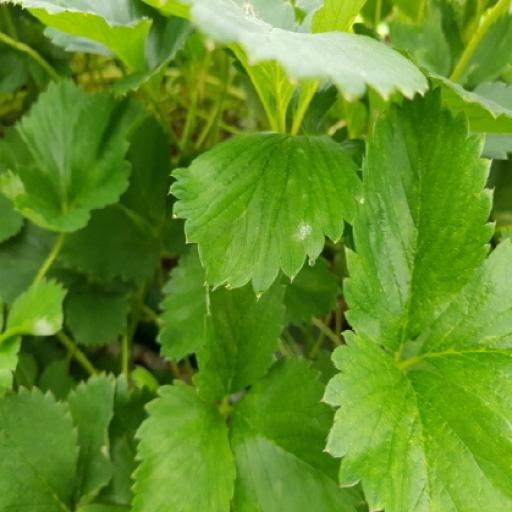Powdery Mildew Leaf: (147, 132, 344, 302), (445, 275, 511, 343)
